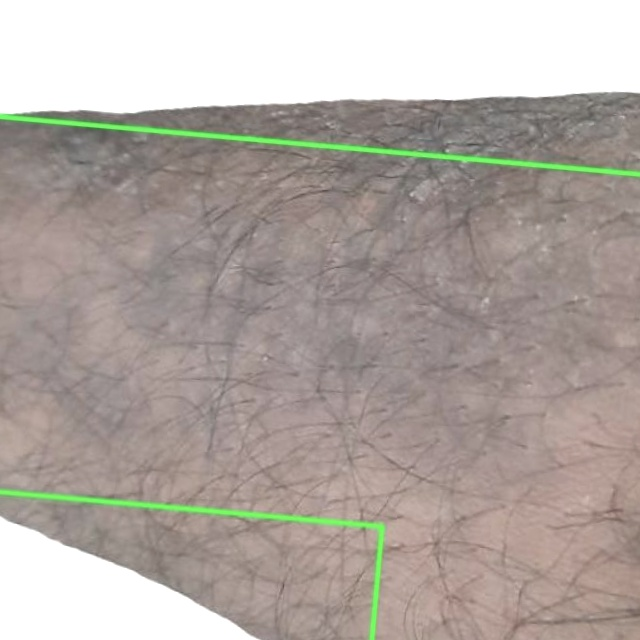Contact Dermatitis: (0, 0, 639, 174), (0, 491, 382, 639)
